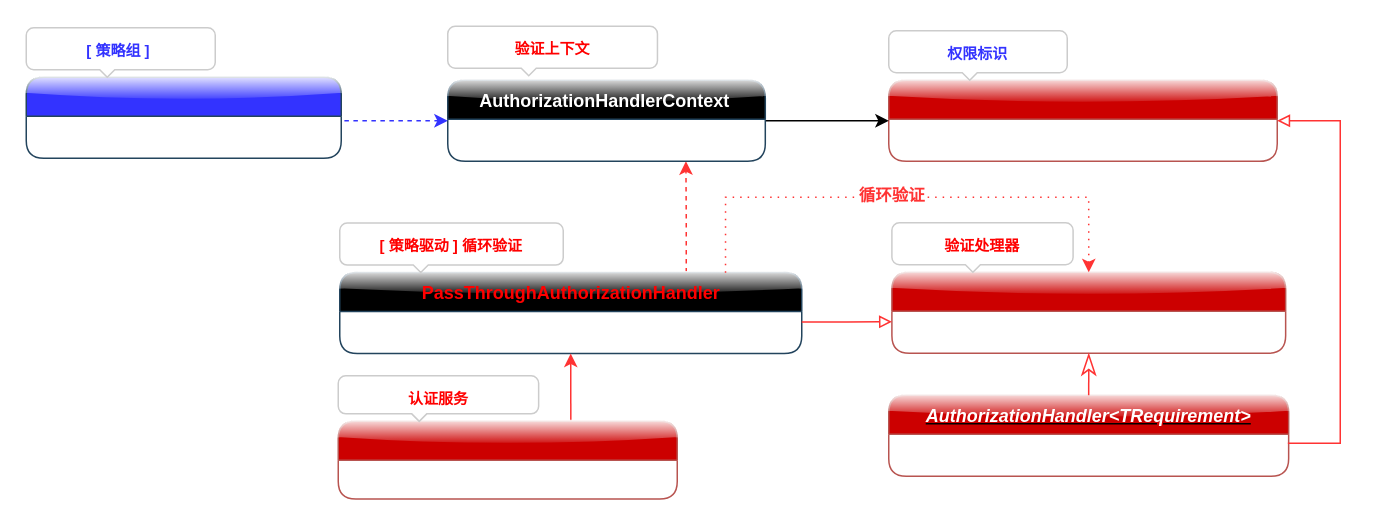
The diagram is 1379 pixels wide and 527 high, and some of its shapes have lost their labels. Here are the shapes that lost their labels. From the top down, the box of each, then its label:
(25, 76, 341, 158): AuthorizationPolicy
(887, 79, 1277, 161): IAuthorizationRequirement
(890, 271, 1286, 353): IAuthorizationHandler
(337, 420, 677, 499): IAuthorizationService
